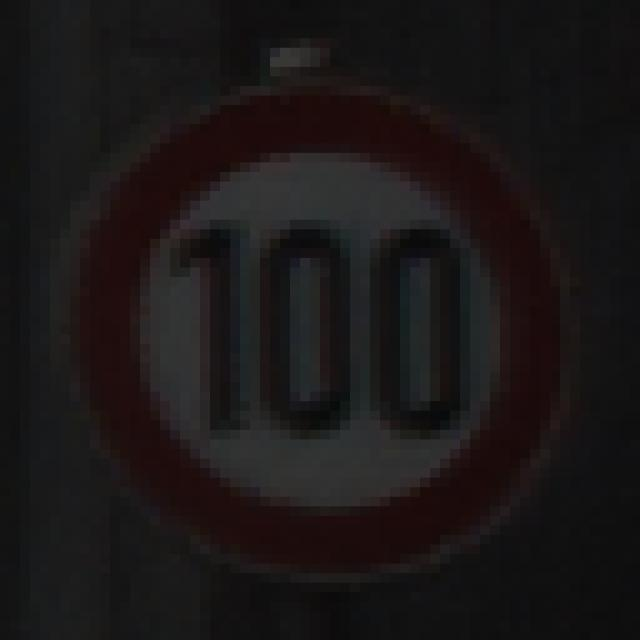speed limit 100: (53, 75, 574, 576)
